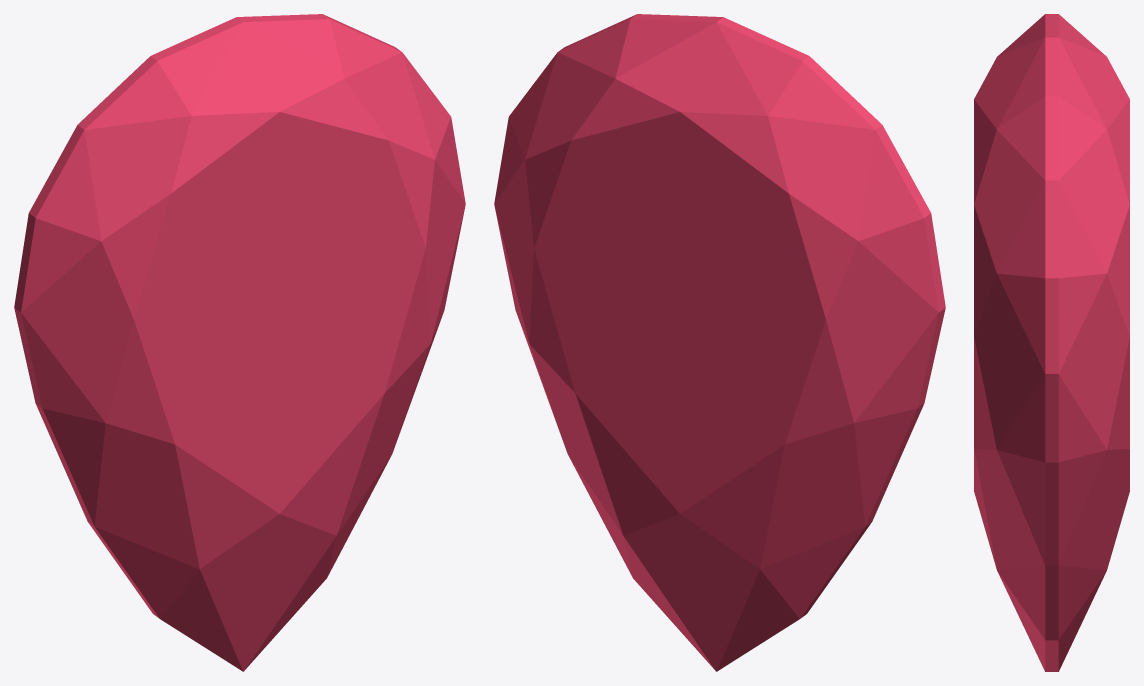
The model's file is Ruby.fbx.
3 views of the same model, side by side, from view 1: azimuth 30°, elevation 25°; view 2: azimuth 150°, elevation 25°; view 3: azimuth 270°, elevation 25° (orthographic). The views are drawn at different scales.
Visible parts, largest first — view 1: Ruby; view 2: Ruby; view 3: Ruby.
Boxes of the visible parts, x1=… form: Ruby: x1=14, y1=14, x2=465, y2=671; Ruby: x1=494, y1=14, x2=945, y2=671; Ruby: x1=974, y1=14, x2=1129, y2=671.
Bounding box in the file's own units: 28.39 × 39.65 × 8.82.
